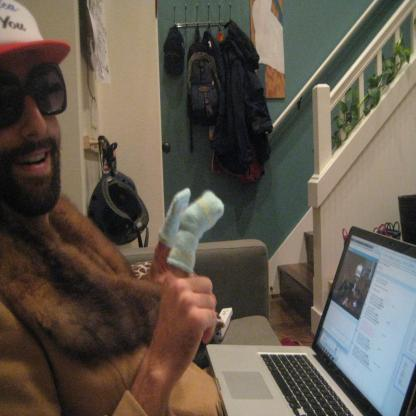board: (279, 227, 410, 414)
